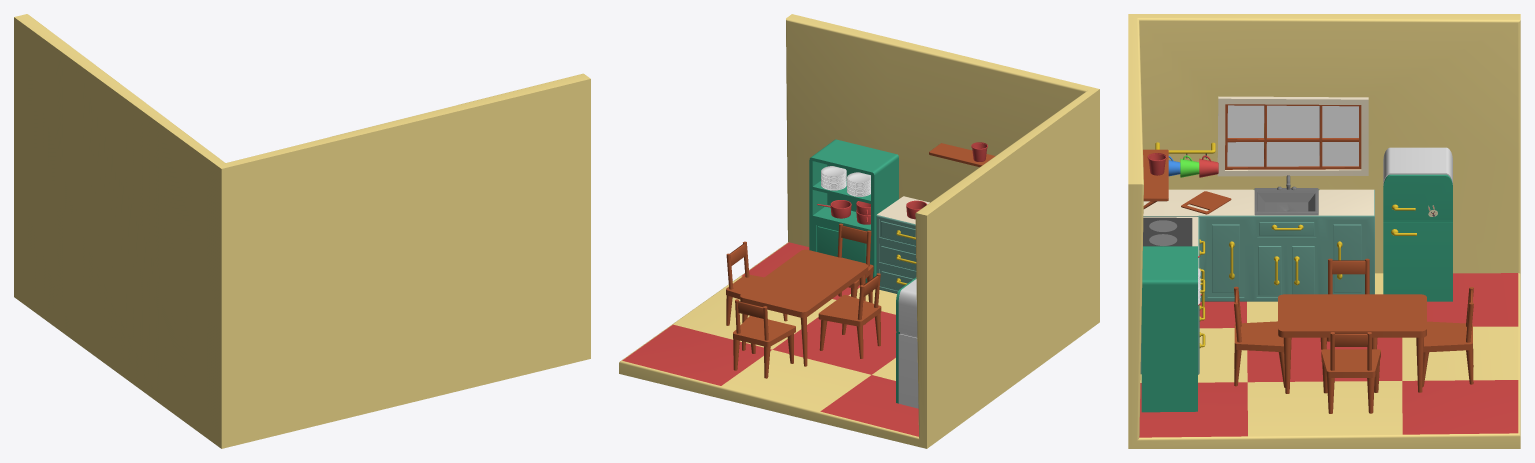
The model's file is kitchen.glb.
The picture shows the model from 3 angles, left to right: view 1: azimuth 30°, elevation 25°; view 2: azimuth 150°, elevation 25°; view 3: azimuth 270°, elevation 25°; orthographic projection. The views are drawn at different scales.
Visible parts, largest first — view 1: Cube.013; view 2: Cube.013, Cube.014, Cube.002, Cube.010, Cube.009, Cube.003, Cube.005, Cube.015; view 3: Cube.013, Cube.012, Cube.014, Cube.011, Cube.002, Cube.009, Cube.010, Cube, Cube.005, Cube.007, Cube.015, Cube.016 (+2 smaller).
Boxes of the visible parts, <box> form: Cube.013: <box>14,14,590,448</box>; Cube.013: <box>619,14,1099,448</box>; Cube.014: <box>809,139,898,282</box>; Cube.002: <box>740,249,868,317</box>; Cube.010: <box>876,196,929,293</box>; Cube.009: <box>898,279,918,408</box>; Cube.003: <box>818,295,881,326</box>; Cube.005: <box>733,315,795,347</box>; Cube.015: <box>929,143,995,167</box>; Cube.013: <box>1128,14,1520,448</box>; Cube.012: <box>1143,188,1374,301</box>; Cube.014: <box>1141,246,1197,412</box>; Cube.011: <box>1383,174,1452,301</box>; Cube.002: <box>1278,294,1426,337</box>; Cube.009: <box>1383,147,1452,185</box>; Cube.010: <box>1140,217,1199,374</box>; Cube: <box>1321,349,1380,377</box>; Cube.005: <box>1423,321,1472,352</box>; Cube.007: <box>1234,321,1283,352</box>; Cube.015: <box>1143,149,1168,208</box>; Cube.016: <box>1181,191,1231,214</box>.
Bounding box in the file's own units: 20.54 × 14.87 × 19.98.
